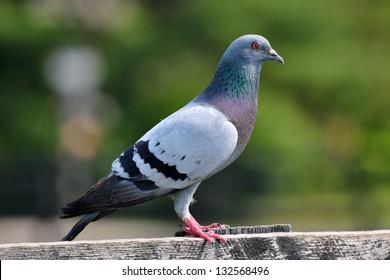Flying Rat: (58, 33, 284, 243)
